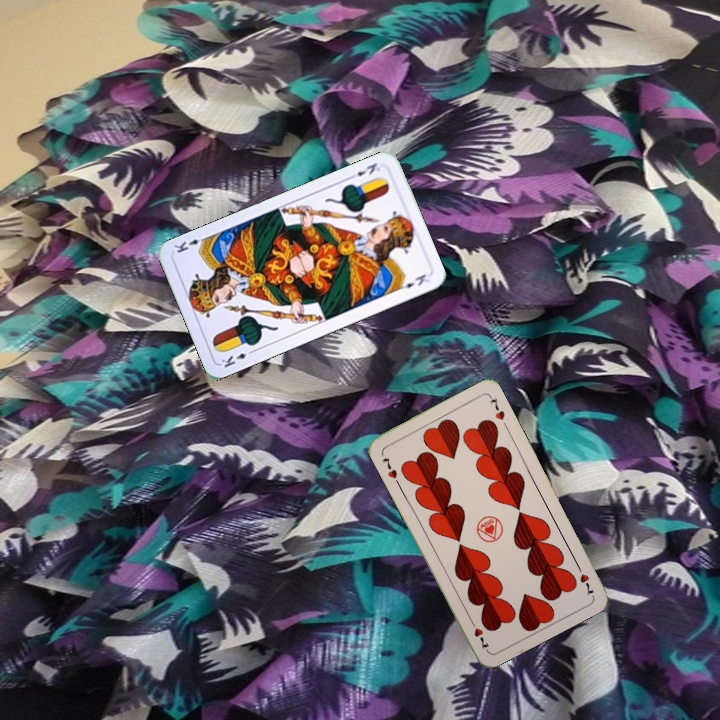EK: (217, 346, 257, 370), (345, 159, 383, 182)
H7: (572, 560, 597, 598), (378, 453, 400, 481)
